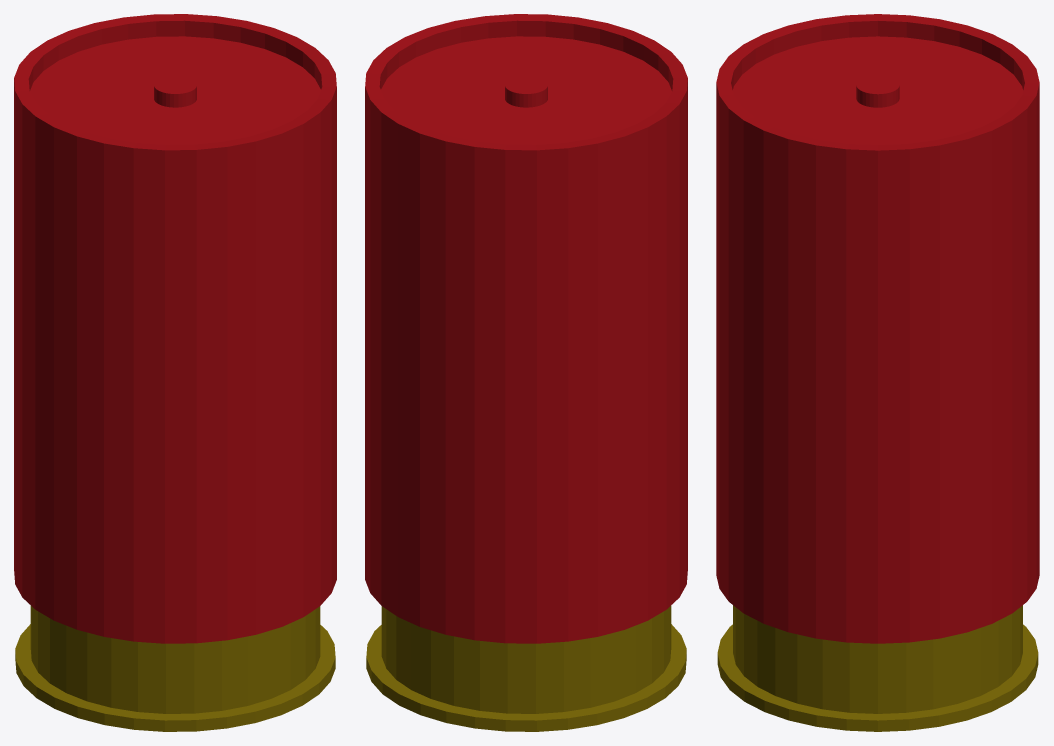
The model's file is Muniçãoshotgun.glb.
3 renders of one model, left to right at view 1: azimuth 30°, elevation 25°; view 2: azimuth 150°, elevation 25°; view 3: azimuth 270°, elevation 25°, orthographic.
Visible parts, largest first — view 1: Cylinder, Cylinder.001; view 2: Cylinder, Cylinder.001; view 3: Cylinder, Cylinder.001.
Part boxes in pixels (x1,y1,x2,y2): Cylinder: (14,14,336,643); Cylinder.001: (15,605,335,731); Cylinder: (365,14,687,643); Cylinder.001: (366,605,686,731); Cylinder: (716,14,1039,643); Cylinder.001: (717,605,1038,731).
Size of the model in its own units: 2.16 by 4.3 by 2.16.
